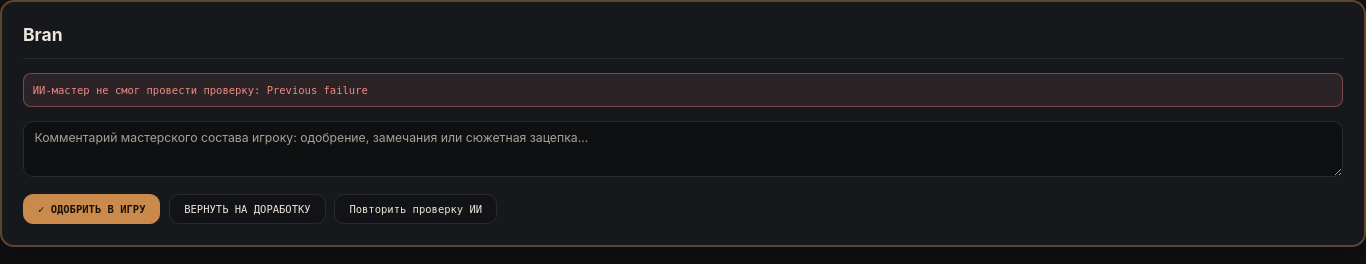
it: retry refreshes the cached failure before ending the running state
Expected: the text "ИИ-мастер не смог провести проверку: Previous failure" is shown, [23,73,1343,106]
Click the button "Повторить проверку ИИ" at [416, 209], box [334,194,497,224]
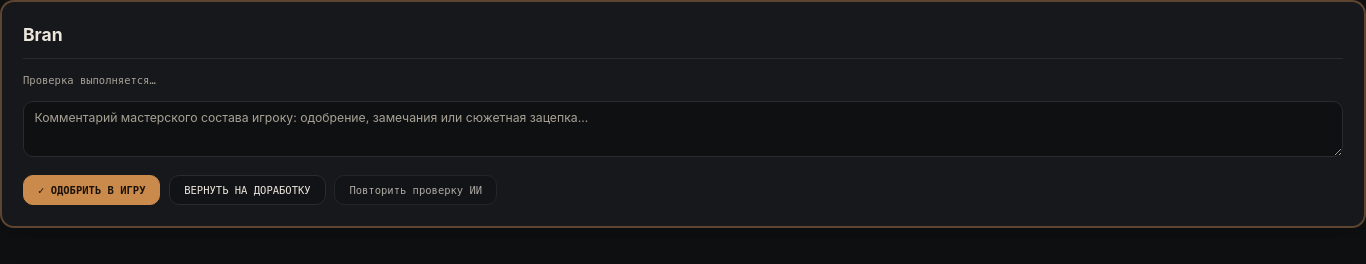
Now the text "Previous failure" is gone
Now the message "Проверка выполняется…" is shown, box [23,74,156,86]
Now the button "Повторить проверку ИИ" is disabled, box [334,174,497,204]
